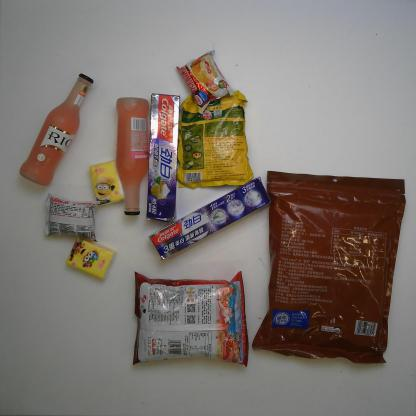Alcohol: (18, 72, 93, 188), (115, 96, 150, 216)
Dessert: (174, 48, 236, 115), (44, 192, 102, 242)
Dried Food: (254, 160, 407, 368)
Personal Hygiene: (149, 178, 272, 260), (146, 92, 181, 226)
Puffed Food: (125, 266, 250, 368)
Seasoner: (176, 89, 255, 190)
Tissue: (66, 234, 118, 280), (88, 160, 125, 206)
